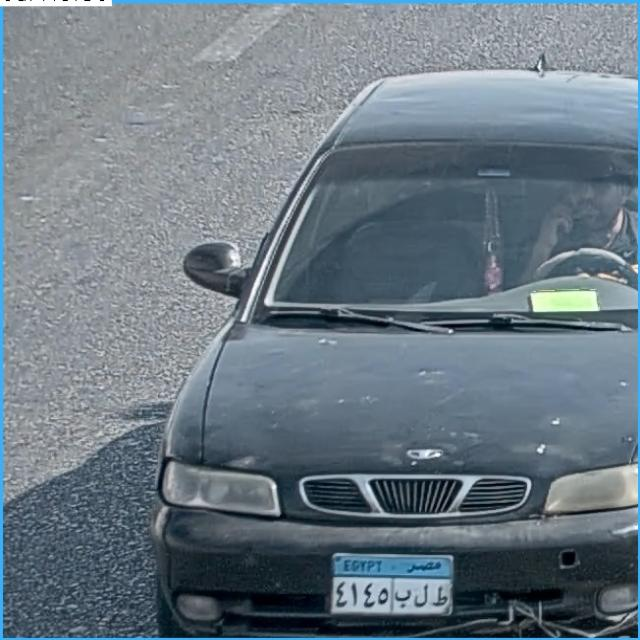windshield: (246, 165, 636, 318)
